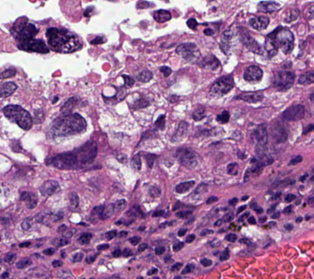nucleus: (47, 113, 86, 137), (46, 27, 81, 52), (2, 104, 32, 129), (237, 27, 261, 53), (75, 141, 96, 164), (176, 42, 200, 62), (17, 38, 48, 53), (210, 75, 233, 95), (175, 148, 198, 168), (51, 152, 78, 169), (13, 23, 37, 41), (252, 124, 267, 150), (270, 122, 286, 142), (235, 91, 263, 102), (265, 32, 277, 57), (172, 121, 187, 141), (198, 55, 219, 69), (60, 96, 77, 113), (244, 65, 262, 81), (39, 180, 58, 195), (20, 192, 37, 208), (0, 82, 16, 97), (191, 183, 207, 198), (90, 205, 104, 221), (175, 181, 194, 192), (101, 203, 114, 219), (136, 70, 152, 82), (192, 105, 204, 120), (21, 217, 35, 229), (69, 192, 78, 210), (52, 236, 68, 246), (1, 68, 15, 79), (145, 153, 156, 167), (16, 258, 31, 268), (217, 111, 229, 123), (131, 154, 140, 170), (250, 201, 262, 213), (114, 199, 125, 212), (78, 232, 91, 243), (134, 98, 148, 108), (155, 114, 164, 129), (181, 264, 194, 274), (122, 75, 133, 86), (227, 163, 238, 174), (159, 66, 171, 76), (34, 109, 43, 122), (90, 36, 104, 44), (149, 186, 160, 196), (4, 253, 15, 263), (176, 210, 191, 217), (116, 152, 126, 162), (62, 229, 73, 238), (105, 230, 116, 239), (219, 249, 228, 260), (72, 252, 83, 261), (58, 270, 72, 277), (173, 242, 183, 251), (225, 233, 236, 241), (129, 236, 140, 244), (200, 258, 211, 266), (57, 225, 67, 233), (122, 248, 132, 256), (206, 196, 217, 203), (200, 229, 212, 235), (138, 243, 147, 251), (86, 255, 95, 263), (171, 263, 181, 270), (152, 210, 163, 216), (97, 244, 108, 250), (186, 234, 194, 242), (239, 213, 248, 220), (223, 214, 232, 221), (177, 228, 186, 235), (155, 247, 164, 254), (112, 249, 121, 256), (43, 248, 53, 254), (52, 260, 62, 266), (147, 268, 157, 274), (237, 205, 245, 212), (214, 219, 222, 226), (19, 241, 30, 246), (169, 95, 178, 101), (248, 216, 255, 223), (229, 198, 237, 204), (267, 206, 274, 212), (272, 212, 279, 218), (1, 272, 8, 278), (52, 96, 58, 102), (259, 217, 266, 222), (119, 231, 126, 236), (267, 222, 275, 226), (165, 256, 169, 261), (139, 226, 143, 229)
